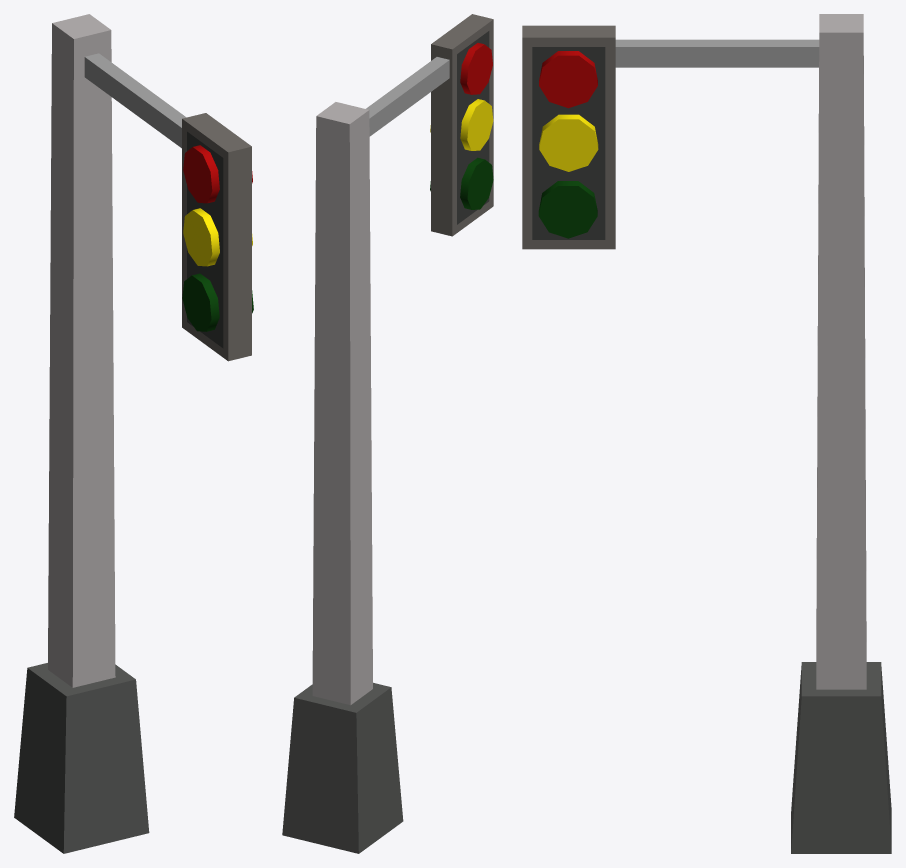
Rendered from traffic light.FBX.
3 renders of one model, left to right at view 1: azimuth 30°, elevation 25°; view 2: azimuth 150°, elevation 25°; view 3: azimuth 270°, elevation 25°, orthographic. The views are drawn at different scales.
Visible parts, largest first — view 1: traffic light; view 2: traffic light; view 3: traffic light.
Boxes of the visible parts, x1,y1,x2,y2 form: traffic light: (14, 14, 253, 853); traffic light: (282, 14, 493, 853); traffic light: (522, 14, 891, 853).
Size of the model in its own units: 1.07 by 9.56 by 3.96.
